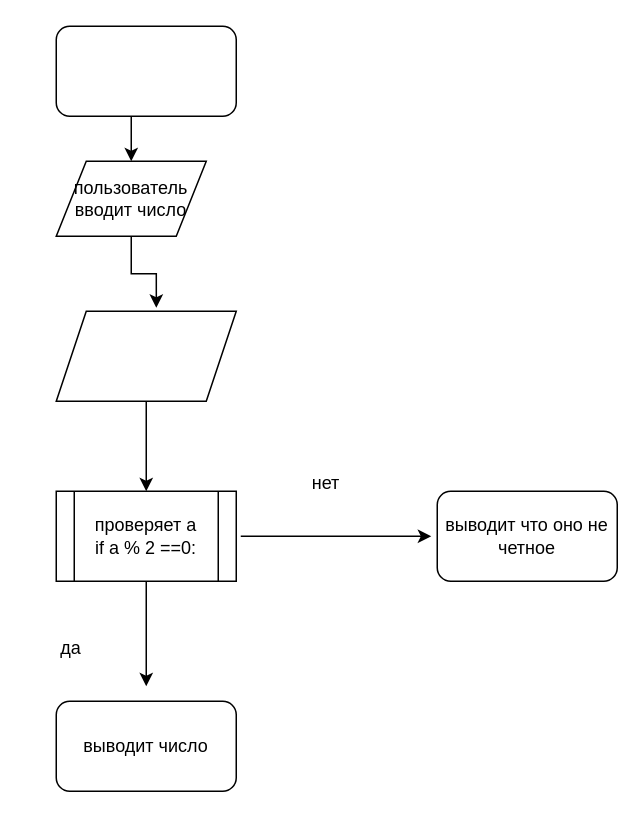
Some shapes in this 644 by 818 pixel diagram are drawn without their labels. Each missing label, with the box of its shape:
дано число: a: (55, 310, 236, 401)
началол: (55, 25, 236, 116)
